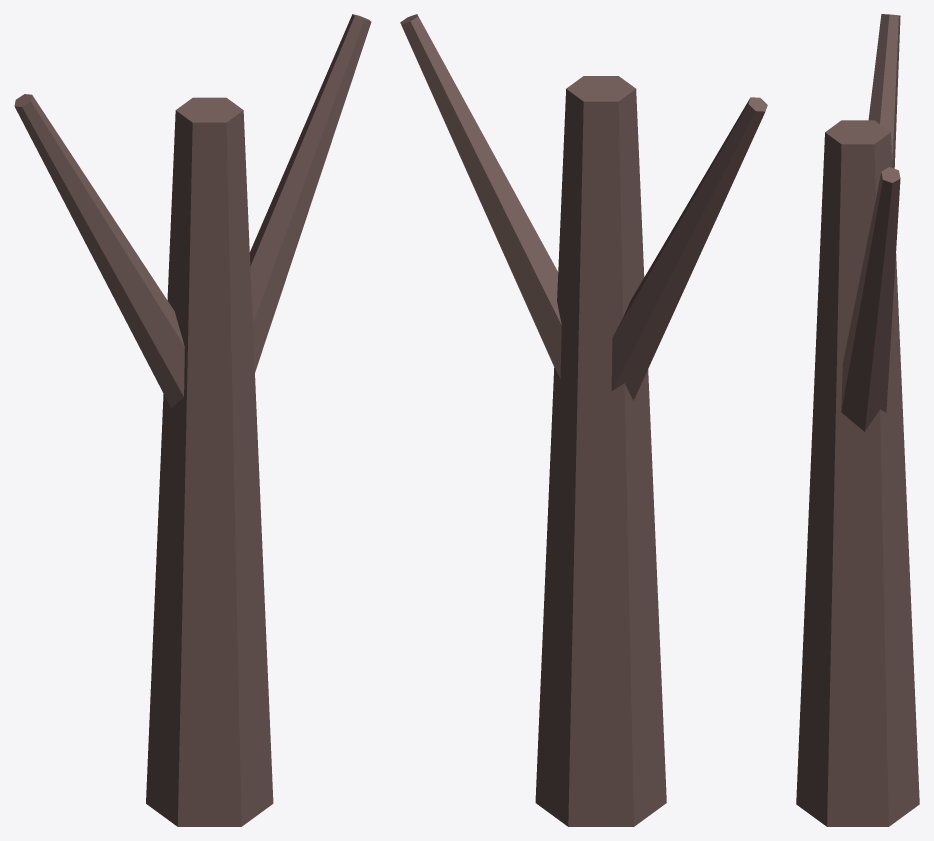
The model's file is SM_ENV_Tree_003_Bare.glb.
3 views of the same model, side by side, from view 1: azimuth 30°, elevation 25°; view 2: azimuth 150°, elevation 25°; view 3: azimuth 270°, elevation 25° (orthographic). The views are drawn at different scales.
Visible parts, largest first — view 1: SM_ENV_Tree_003_Bare; view 2: SM_ENV_Tree_003_Bare; view 3: SM_ENV_Tree_003_Bare.
Part boxes in pixels (x1,y1,x2,y2): SM_ENV_Tree_003_Bare: (14,14,371,826); SM_ENV_Tree_003_Bare: (400,14,767,826); SM_ENV_Tree_003_Bare: (796,14,919,826).
Bounding box in the file's own units: 0.9637 × 1.91 × 0.3.
